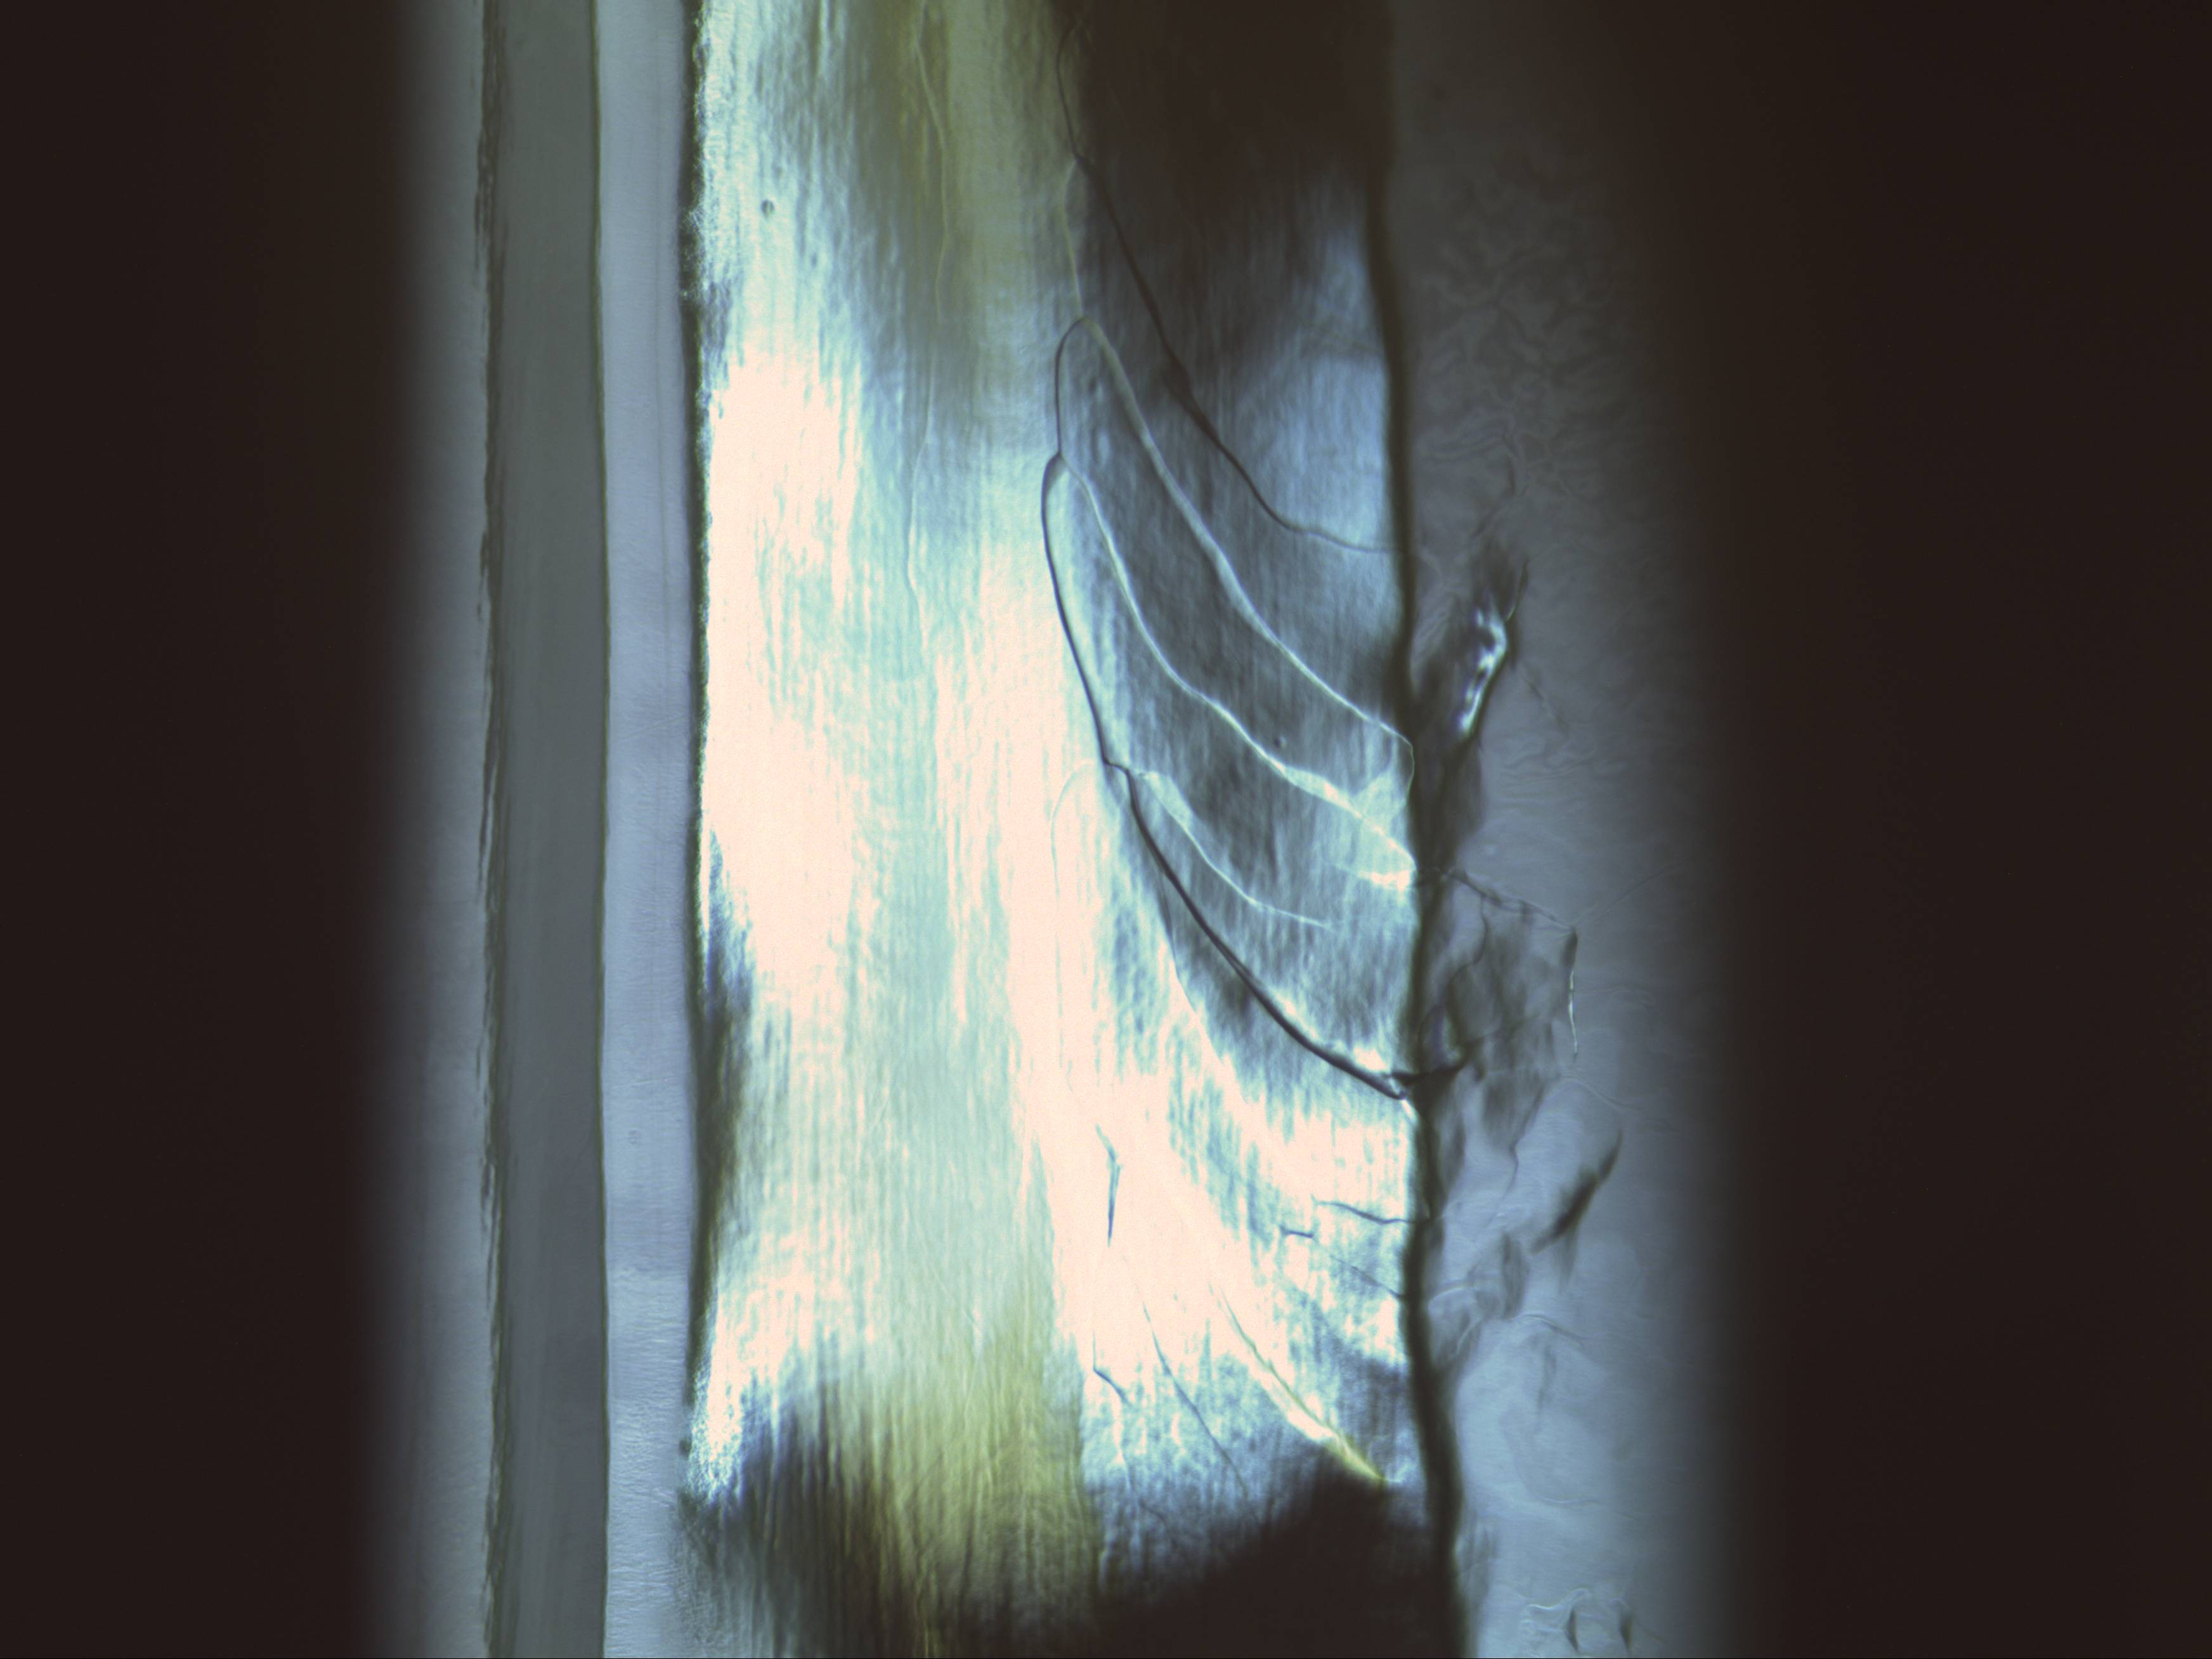defect: (752, 190, 787, 225)
